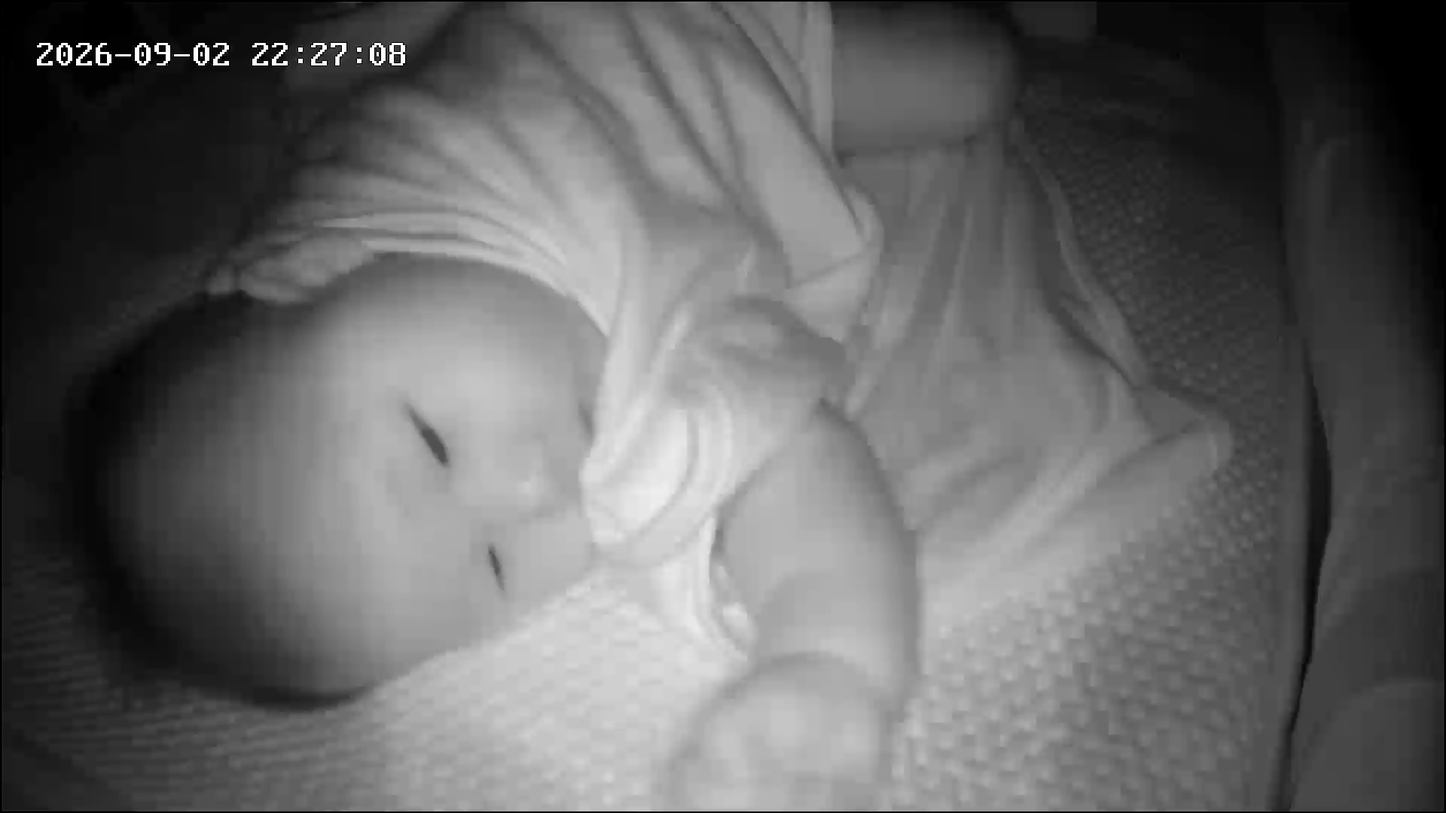baby: (19, 0, 983, 740)
baby_face: (35, 226, 621, 717)
